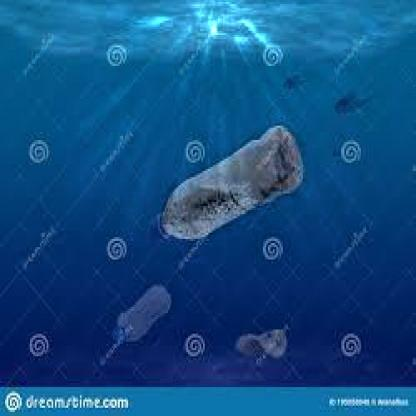pbottle: (145, 122, 308, 243), (108, 276, 173, 344)
